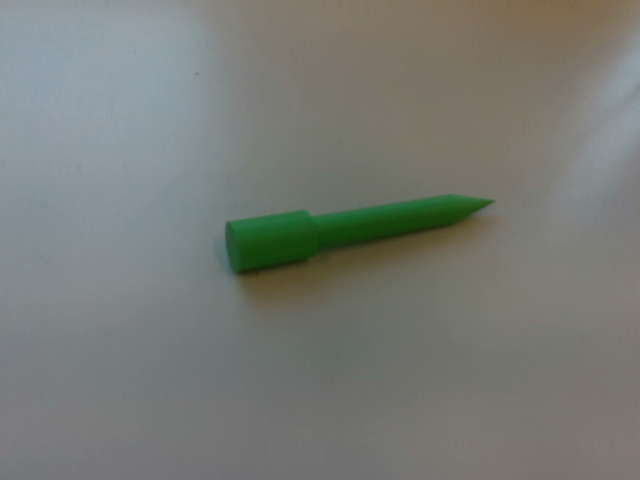Probe: (220, 188, 505, 282)
